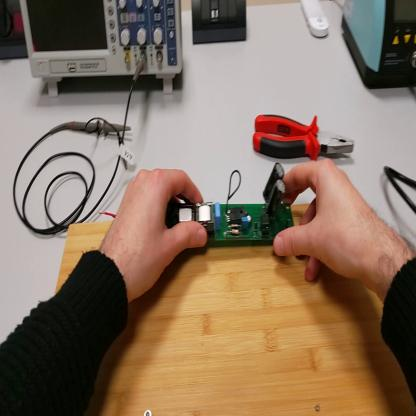hand: (272, 157, 380, 291), (107, 166, 209, 299)
high voltage board: (98, 164, 293, 244)
oscilloscope: (22, 2, 183, 105)
oscilloscope probe tip: (57, 119, 134, 141)
pliers: (250, 110, 355, 161)
socket: (2, 2, 29, 60)
welder station: (344, 3, 416, 94)
working area: (57, 203, 416, 416)
